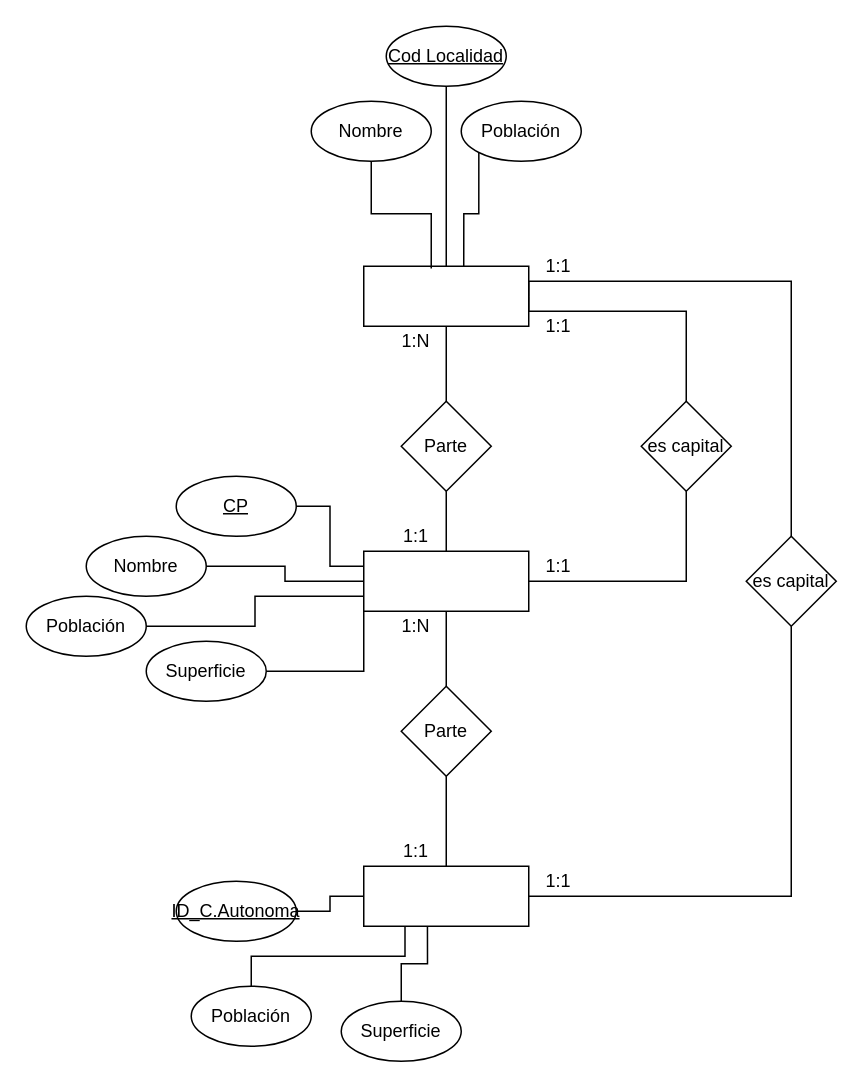
The diagram is 863 pixels wide and 1088 high, and some of its shapes have lost their labels. Here are the shapes that lost their labels. From the top down, the centre of each, then its label:
At [445,295]: "Localidad".
At [445,580]: "Provincia".
At [445,895]: "C. Autónoma".
